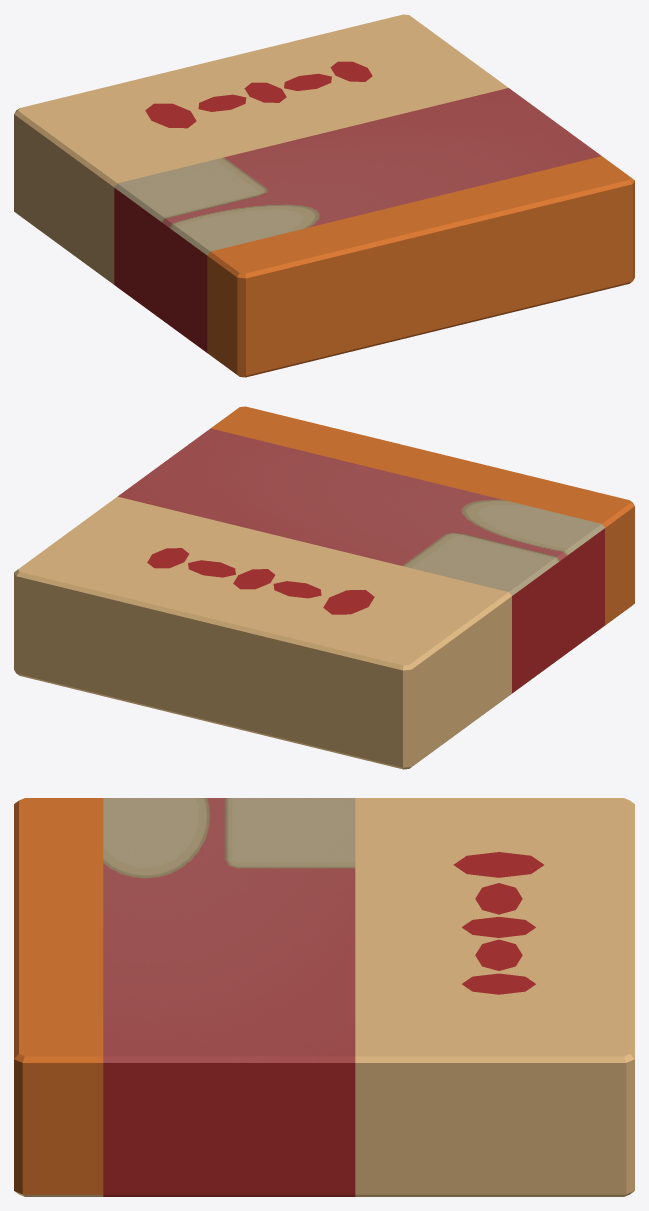
File: Ma_Cookies_3.fbx
3 renders of one model, top to bottom at view 1: azimuth 30°, elevation 25°; view 2: azimuth 150°, elevation 25°; view 3: azimuth 270°, elevation 25°, orthographic. The views are drawn at different scales.
Visible parts, largest first — view 1: Ma_Cookies_3; view 2: Ma_Cookies_3; view 3: Ma_Cookies_3.
Boxes of the visible parts, bbox=[...] form: Ma_Cookies_3: bbox=[14, 14, 634, 377]; Ma_Cookies_3: bbox=[14, 406, 634, 769]; Ma_Cookies_3: bbox=[14, 798, 634, 1196].
Bounding box in the file's own units: 185 × 185 × 47.29.
